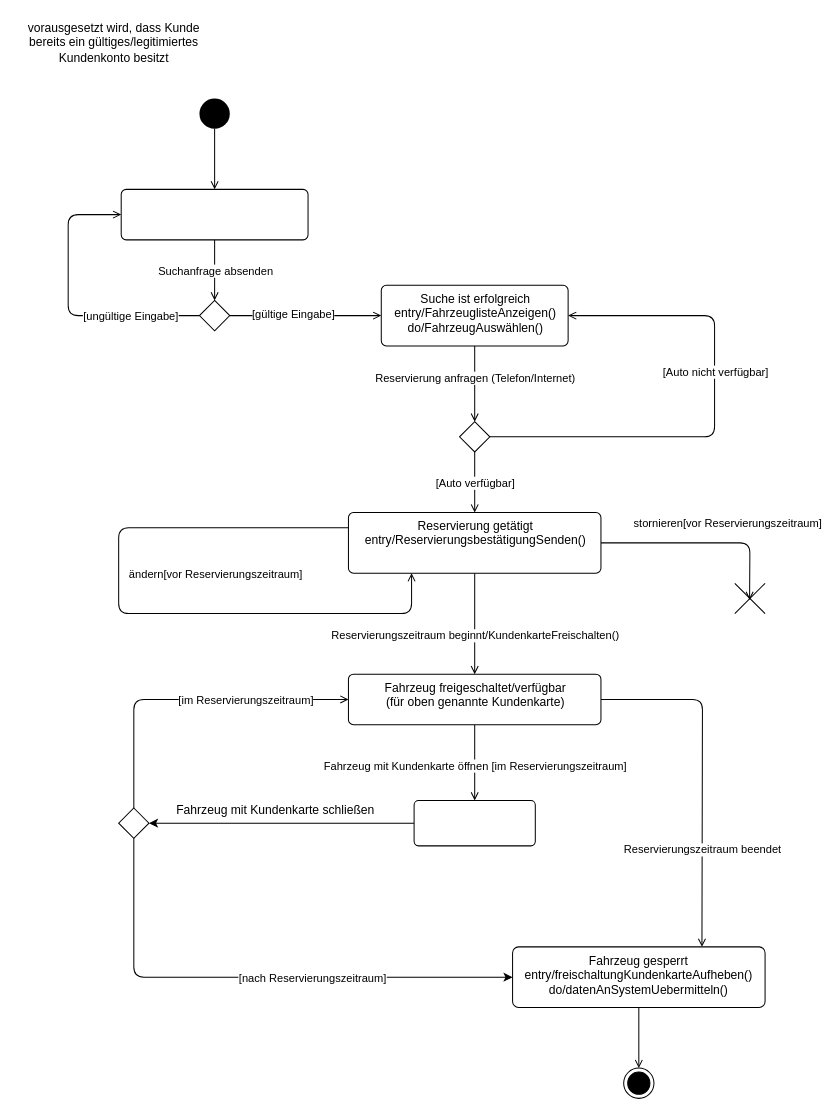
Some shapes in this 838 by 1116 pixel diagram are drawn without their labels. Here are the shapes that lost their labels. From the top down, the box of each, then its label:
(120, 188, 308, 240): Suchparameter unvollständig do/SuchparameterEingeben()
(413, 799, 535, 846): Fahrzeug in Nutzung do/DatenSammeln()
